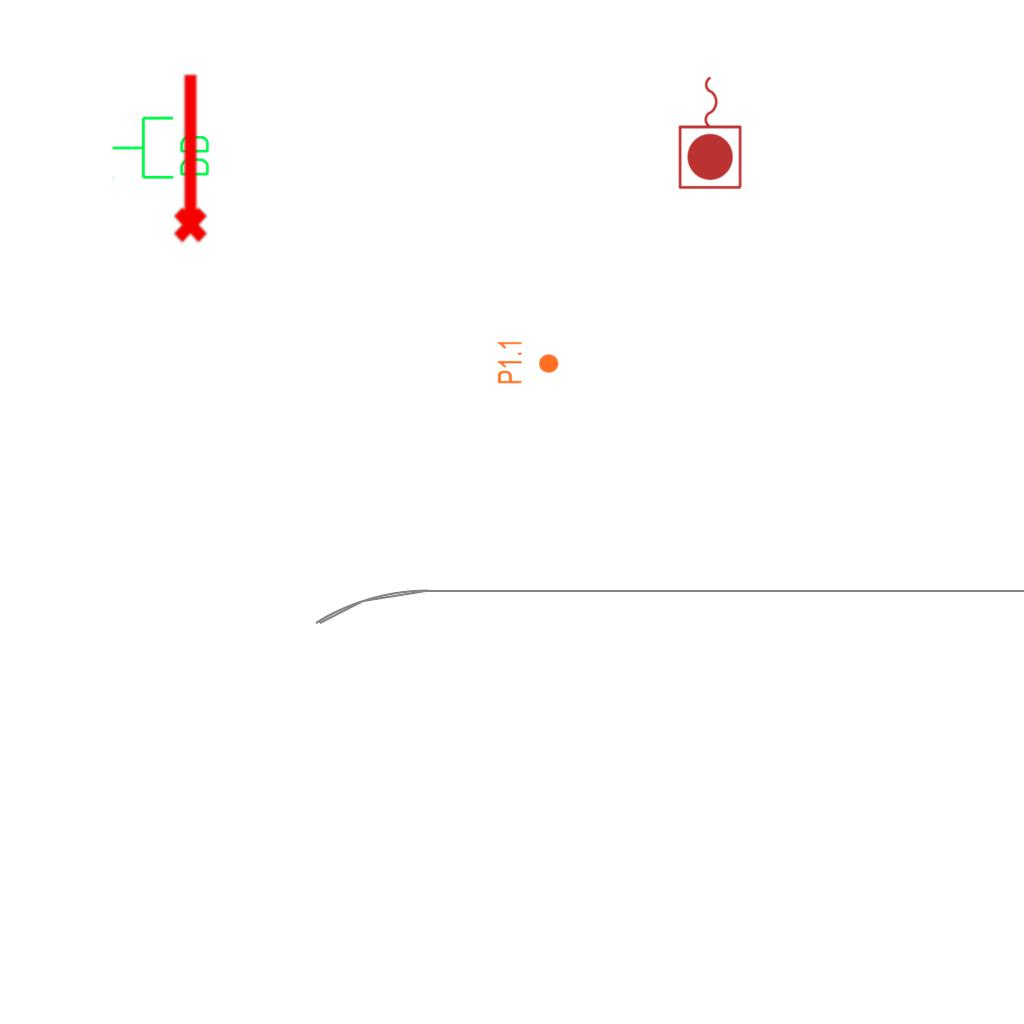ASR_Ansaugoeffnung: (165, 69, 211, 245)
Datenanschluss_zweifach: (110, 114, 213, 183)
Downlight_LED_Einbauleuchten_Flur: (496, 339, 560, 385)
Zugtaster: (675, 71, 747, 193)
